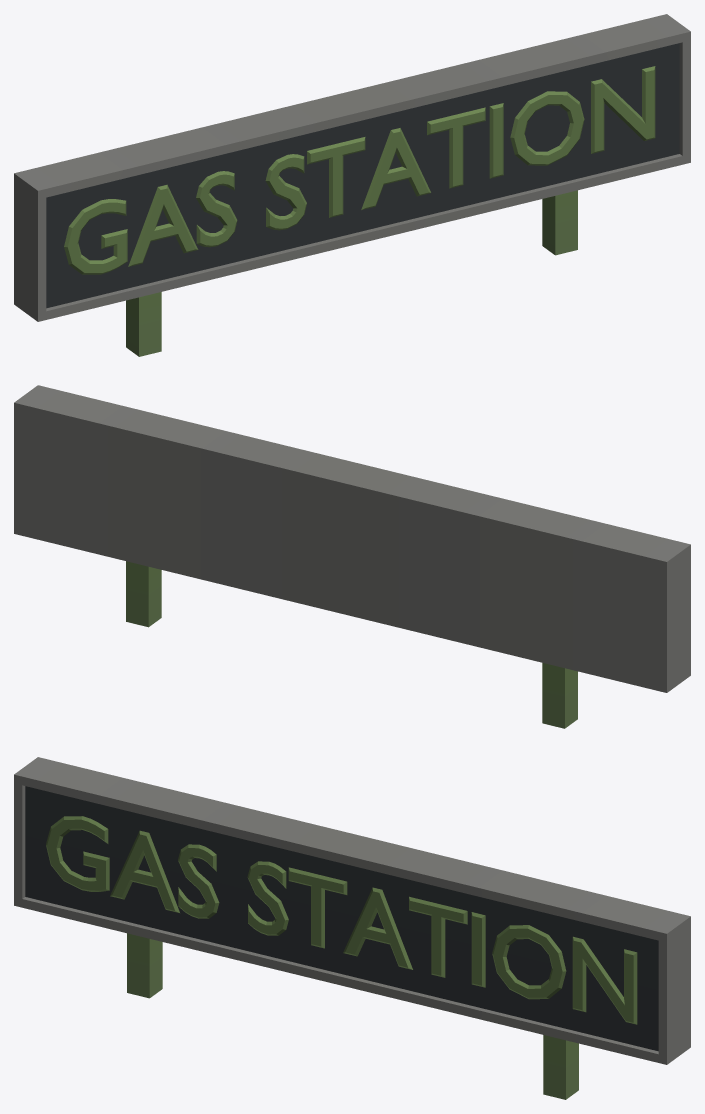
The model's file is Banner_26.fbx.
3 views of the same model, one above another, from view 1: azimuth 30°, elevation 25°; view 2: azimuth 150°, elevation 25°; view 3: azimuth 330°, elevation 25° (orthographic).
Parts seen in each view (by area): view 1: Banner_26; view 2: Banner_26; view 3: Banner_26.
Boxes of the visible parts, bbox=[...] form: Banner_26: bbox=[14, 14, 690, 356]; Banner_26: bbox=[14, 385, 690, 728]; Banner_26: bbox=[14, 757, 690, 1099].
Bounding box in the file's own units: 4.39 × 1.26 × 0.2801.
